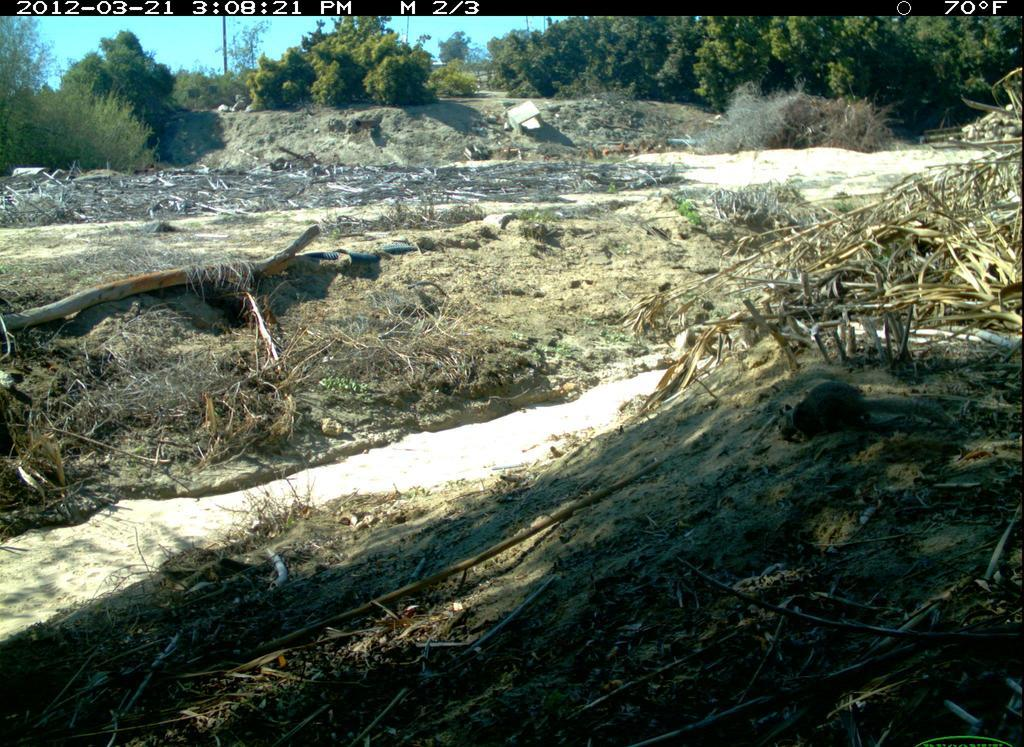squirrel: (772, 372, 962, 461)
